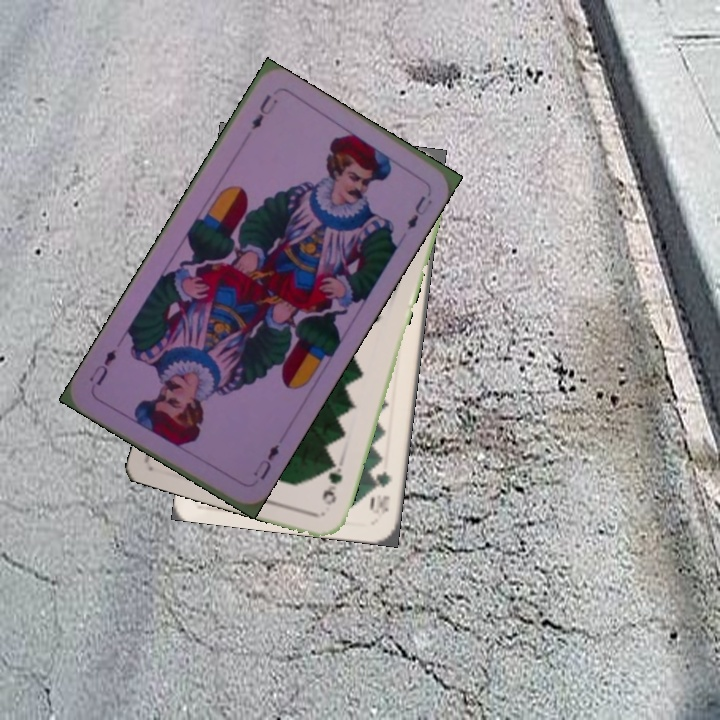EU: (247, 90, 281, 133), (249, 440, 282, 483)
G10: (369, 467, 394, 519)
G9: (318, 456, 347, 508)
